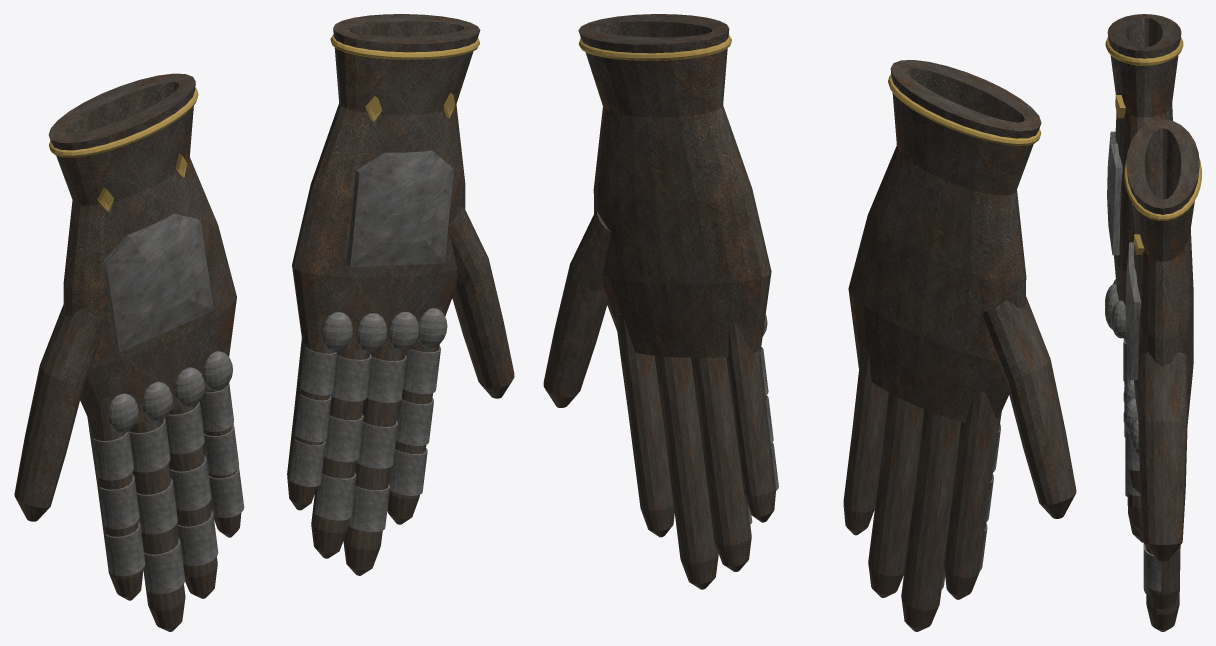
File: heavy.obj
3 renders of one model, left to right at view 1: azimuth 30°, elevation 25°; view 2: azimuth 150°, elevation 25°; view 3: azimuth 270°, elevation 25°, orthographic. The views are drawn at different scales.
Visible parts, largest first — view 1: right_palm_cuff, left_palm_cuff, left_back_plate, right_back_plate, left_thumb, right_thumb, right_finger_1, left_finger_1, right_finger_2, left_finger_0, left_finger_2, right_finger_3 (+36 smaller); view 2: right_palm_cuff, left_palm_cuff, left_thumb, right_finger_1, left_finger_1, right_finger_2, left_finger_2, right_thumb, left_finger_0, right_finger_0, right_finger_3, left_finger_3 (+2 smaller); view 3: right_palm_cuff, right_thumb, left_palm_cuff, right_back_plate, left_back_plate, right_finger_0, right_cuff_trim, right_finger_1, left_cuff_trim, right_finger_plate0_0, left_knuckle3, left_finger_2 (+10 smaller).
Boxes of the visible parts, x1,y1,x2,y2 form: right_palm_cuff: (292, 14, 480, 349); left_palm_cuff: (48, 73, 236, 424); left_back_plate: (102, 214, 213, 352); right_back_plate: (346, 150, 453, 267); left_thumb: (14, 305, 105, 521); right_thumb: (448, 206, 514, 398); right_finger_1: (343, 348, 405, 575); left_finger_1: (129, 420, 185, 631); right_finger_2: (311, 349, 370, 558); left_finger_0: (87, 397, 143, 600); left_finger_2: (168, 403, 217, 598); right_finger_3: (287, 315, 334, 510); right_palm_cuff: (578, 14, 771, 357); left_palm_cuff: (848, 60, 1041, 422); left_thumb: (982, 296, 1076, 518); right_finger_1: (654, 355, 718, 589); left_finger_1: (901, 409, 960, 631); right_finger_2: (691, 357, 751, 571); left_finger_2: (868, 392, 923, 597); right_thumb: (543, 211, 610, 407); left_finger_0: (944, 391, 1001, 599); right_finger_0: (615, 313, 674, 537); right_finger_3: (726, 322, 775, 522); left_finger_3: (843, 344, 888, 535); right_palm_cuff: (1126, 119, 1199, 422); right_thumb: (1138, 352, 1187, 561); left_palm_cuff: (1107, 14, 1181, 305); right_back_plate: (1125, 242, 1141, 379); left_back_plate: (1107, 131, 1122, 255); right_finger_0: (1145, 545, 1180, 612); right_cuff_trim: (1124, 158, 1201, 220); right_finger_1: (1146, 563, 1180, 631); left_cuff_trim: (1105, 37, 1183, 65); right_finger_plate0_0: (1143, 544, 1161, 591); left_knuckle3: (1111, 300, 1126, 338); left_finger_2: (1127, 494, 1142, 533).
Bounding box in the file's own units: 96.07 × 100 × 17.5.
3 materials, 3 textured.
